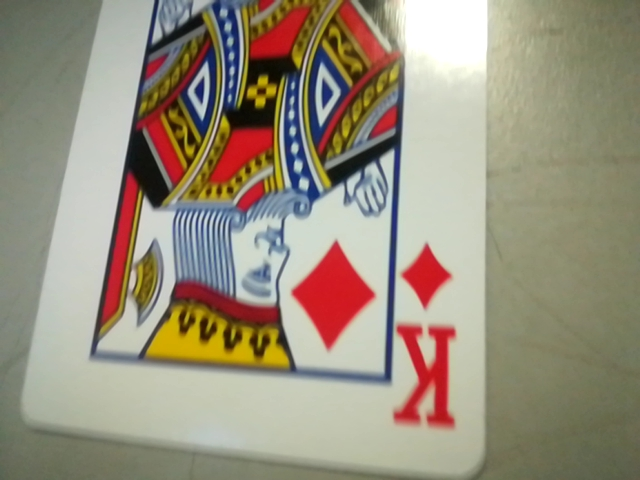fk k: (385, 238, 471, 442)
